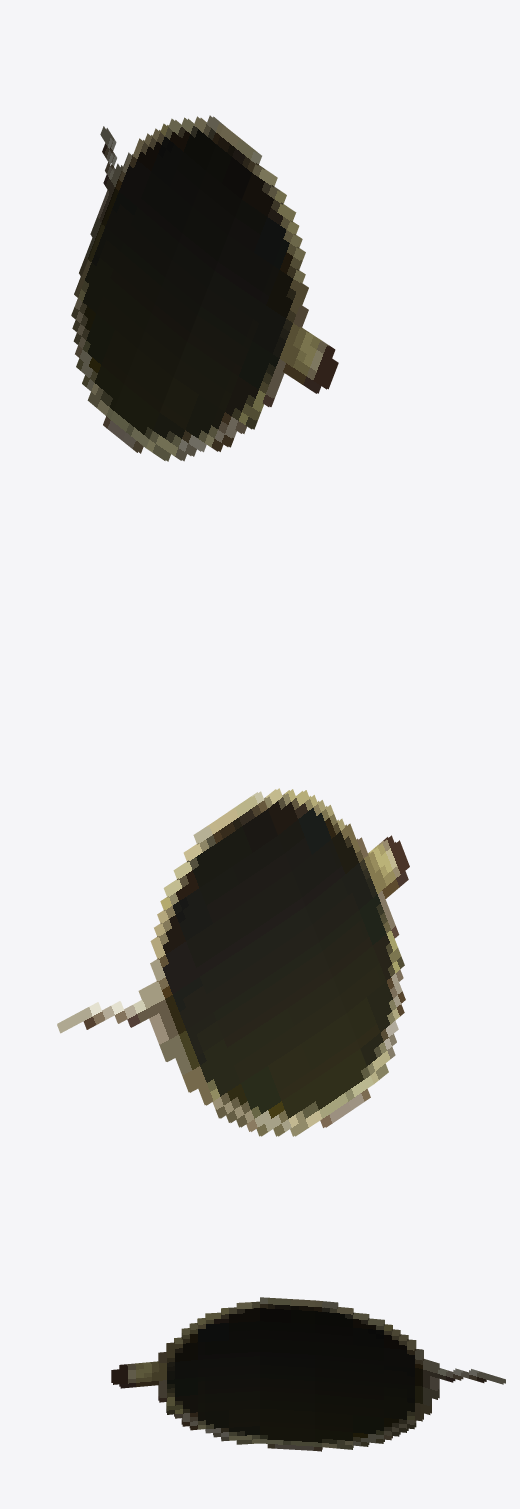
File: Bison_starGlasses.obj
The picture shows the model from 3 angles, top to bottom: view 1: azimuth 30°, elevation 25°; view 2: azimuth 150°, elevation 25°; view 3: azimuth 270°, elevation 25°; orthographic projection. The views are drawn at different scales.
Visible parts, largest first — view 1: Bison_starGlasses_tri; view 2: Bison_starGlasses_tri; view 3: Bison_starGlasses_tri.
Boxes of the visible parts, x1,y1,x2,y2 form: Bison_starGlasses_tri: (71,115,338,461); Bison_starGlasses_tri: (57,788,409,1136); Bison_starGlasses_tri: (111,1297,505,1451).
Bounding box in the file's own units: 0.086 × 0.1449 × 0.2774.
1 material, 1 textured.
